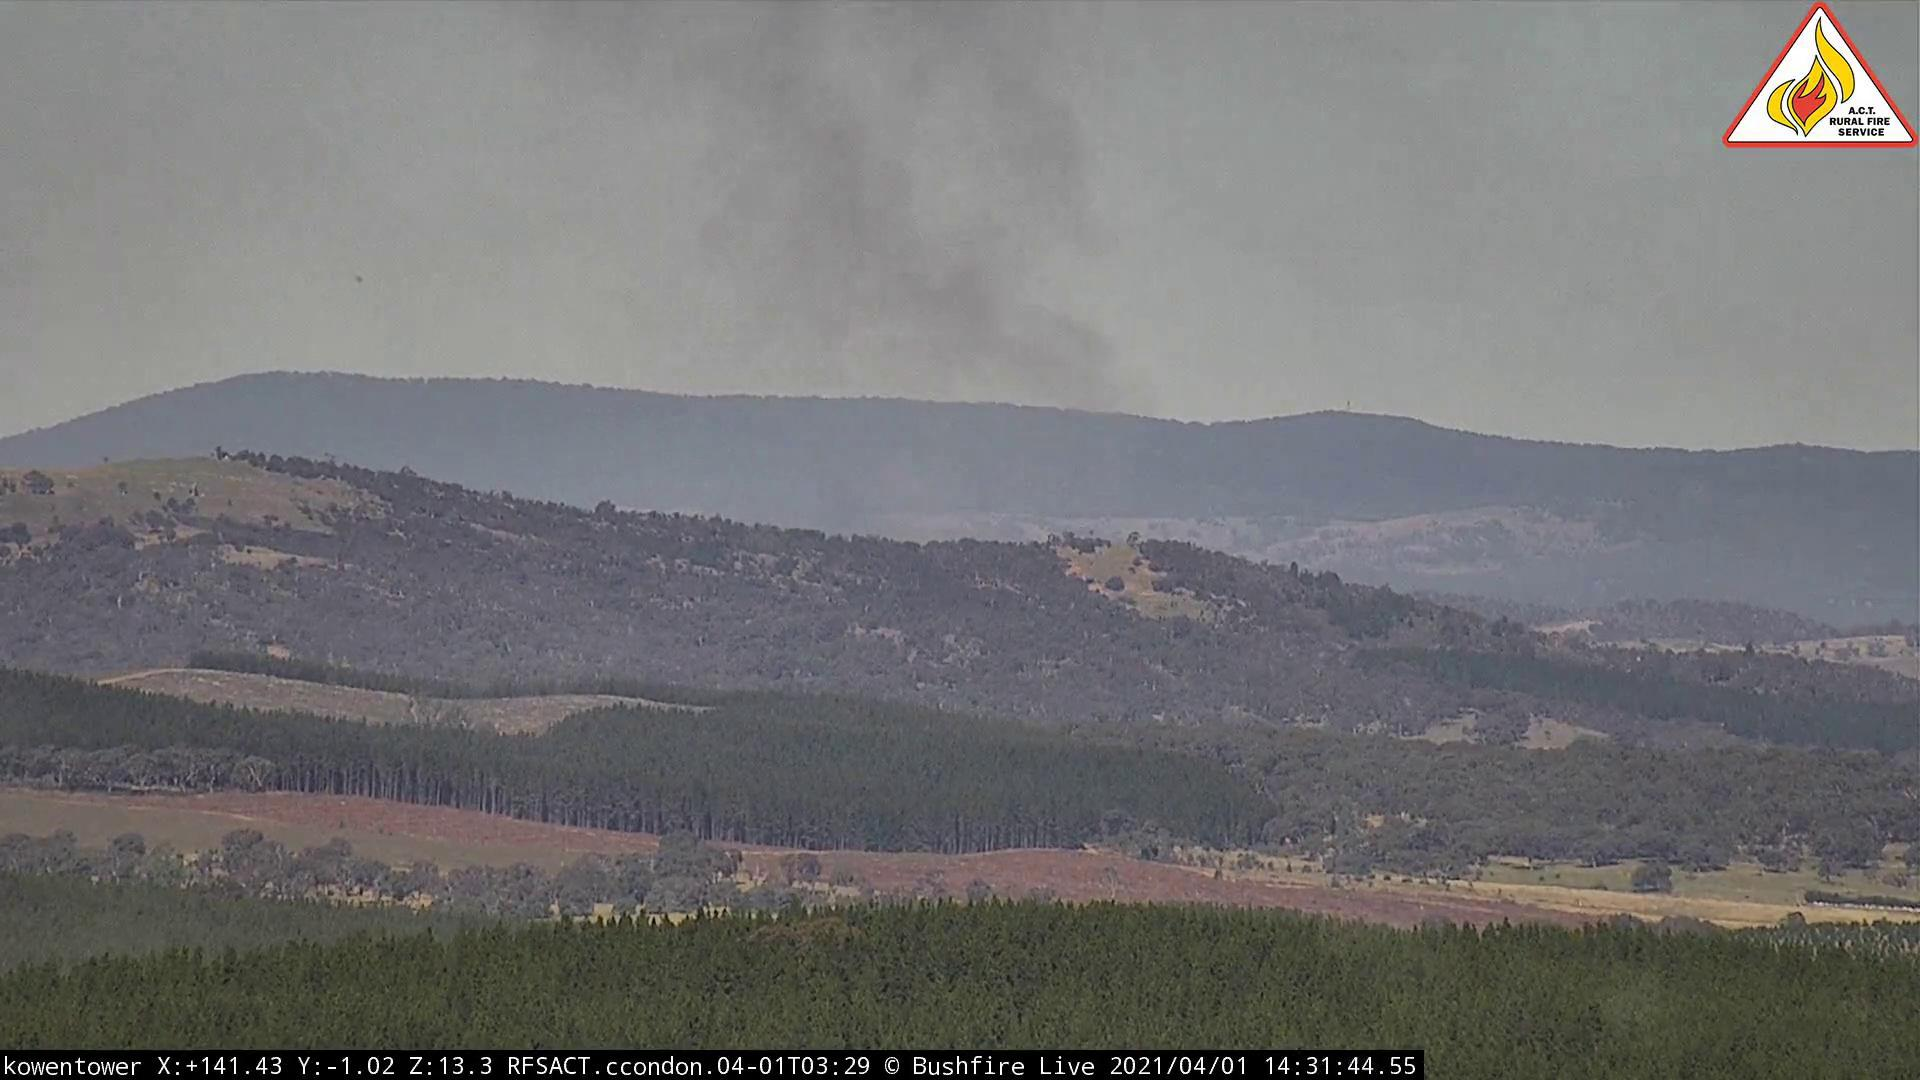Smoke: (436, 3, 1155, 564)
